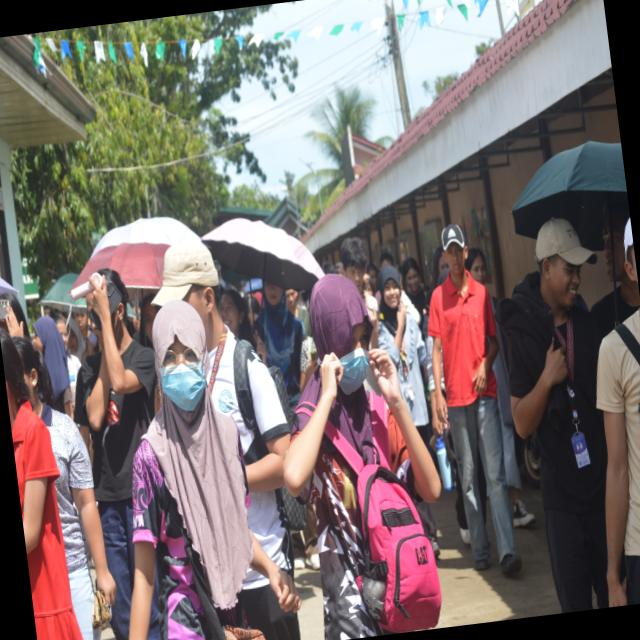person: (283, 275, 441, 639), (130, 301, 300, 639), (154, 243, 294, 572), (498, 219, 608, 612), (428, 225, 522, 575), (14, 337, 116, 639), (76, 269, 156, 639), (0, 329, 83, 639), (597, 311, 639, 606), (378, 266, 429, 444), (493, 328, 535, 527), (255, 281, 304, 408), (34, 316, 73, 417), (611, 210, 639, 323), (220, 290, 255, 347), (286, 289, 310, 337)
